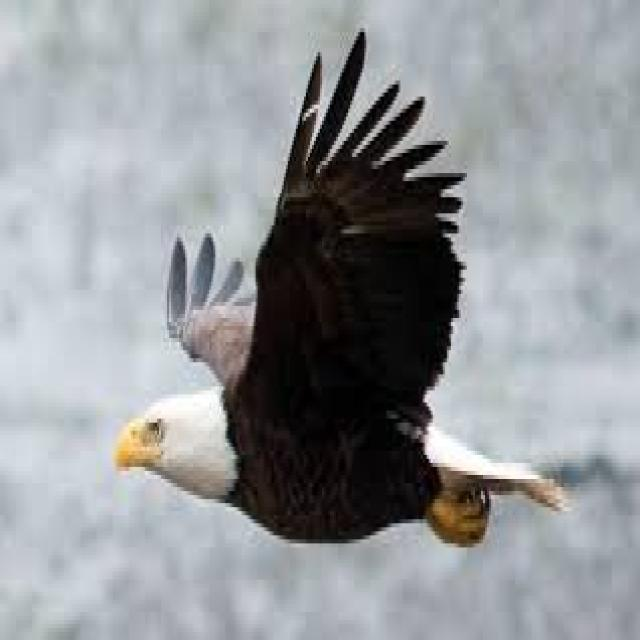Eagle: (105, 35, 485, 551)
